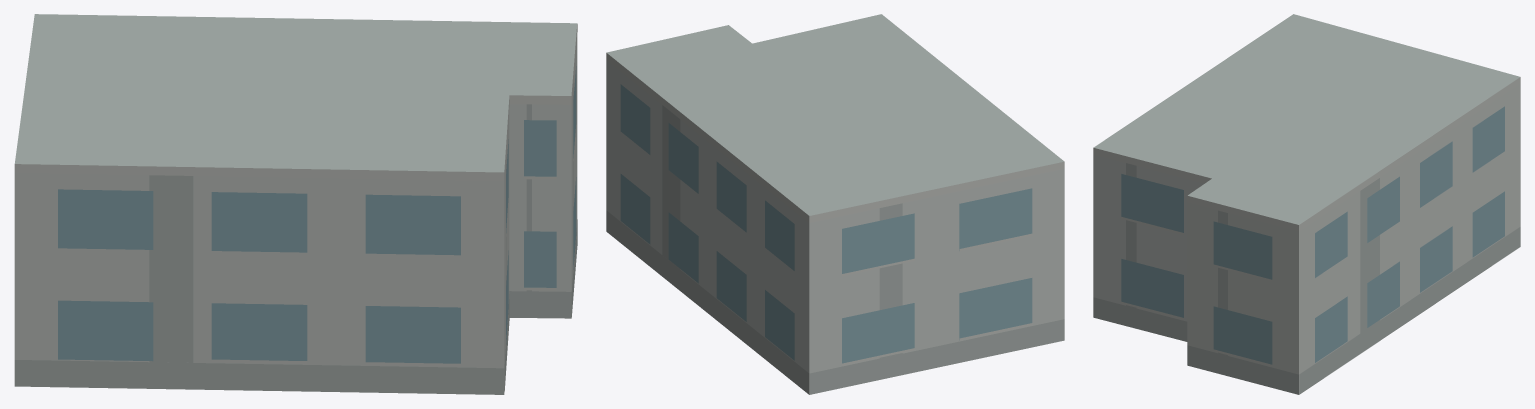
The model's file is survey-upis-32740759.glb.
The picture shows the model from 3 angles, left to right: view 1: azimuth 30°, elevation 25°; view 2: azimuth 150°, elevation 25°; view 3: azimuth 270°, elevation 25°; orthographic projection. The views are drawn at different scales.
Parts seen in each view (by area): view 1: survey-upis-32740759.tmp; view 2: survey-upis-32740759.tmp; view 3: survey-upis-32740759.tmp.
Part boxes in pixels (bbox=[...]): survey-upis-32740759.tmp: bbox=[14, 14, 577, 394]; survey-upis-32740759.tmp: bbox=[606, 14, 1064, 394]; survey-upis-32740759.tmp: bbox=[1093, 14, 1520, 394].
Bounding box in the file's own units: 16.26 × 6.1 × 13.92.
